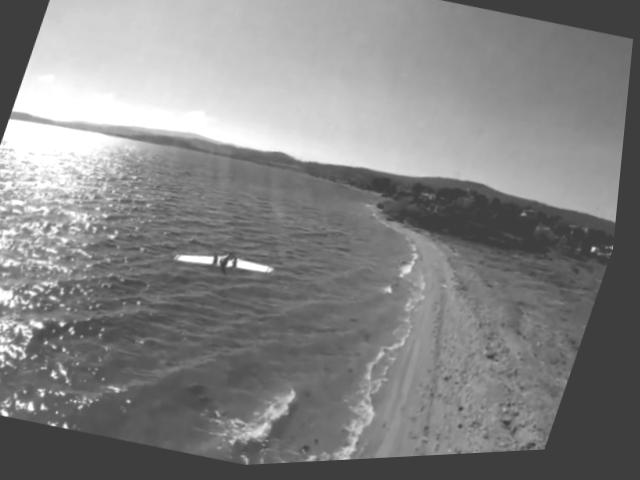hedef: (157, 218, 303, 312)
